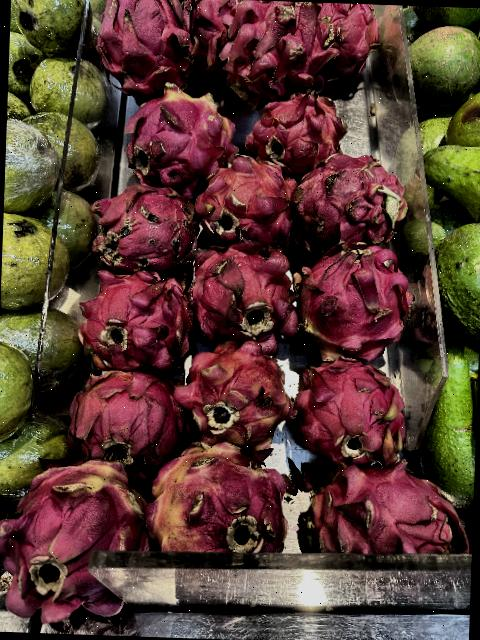buah-naga-belum-matang: (5, 447, 152, 630), (146, 441, 294, 568), (293, 247, 416, 371), (115, 91, 247, 199), (182, 350, 294, 460), (199, 156, 303, 254), (245, 94, 346, 166)
buah-naga-matang: (291, 442, 474, 570), (290, 358, 422, 469), (70, 272, 198, 374), (216, 1, 343, 103), (292, 146, 409, 252), (60, 368, 182, 468), (90, 0, 208, 96), (192, 246, 300, 350), (82, 185, 200, 276)
